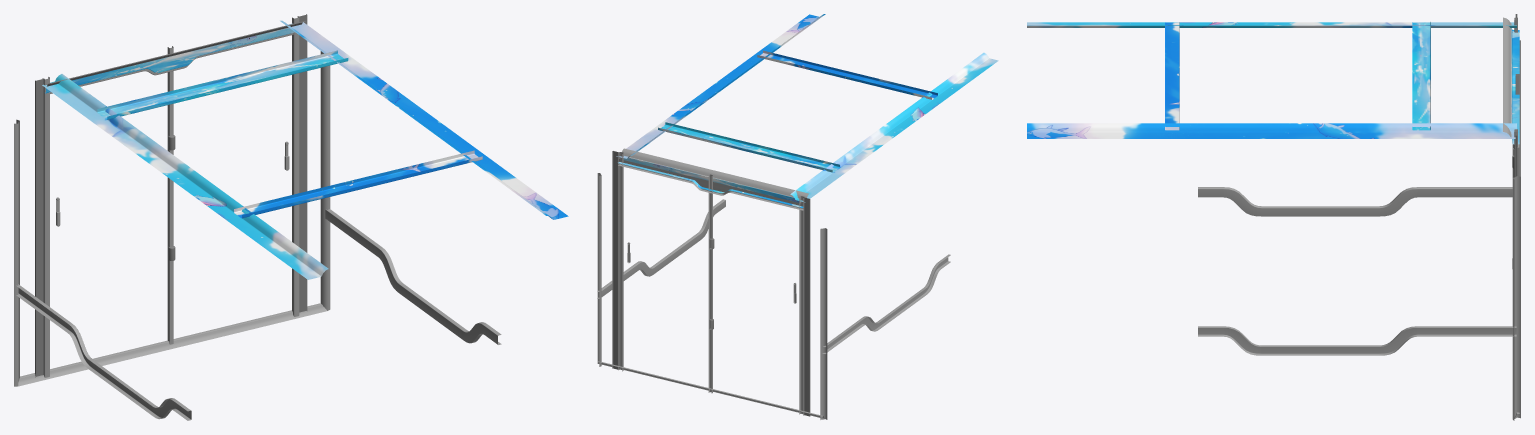
File: g_subway_angle_001_mod.fbx
The picture shows the model from 3 angles, left to right: view 1: azimuth 30°, elevation 25°; view 2: azimuth 150°, elevation 25°; view 3: azimuth 270°, elevation 25°; orthographic projection. The views are drawn at different scales.
Parts seen in each view (by area): view 1: g_subway_angle_001_mod; view 2: g_subway_angle_001_mod; view 3: g_subway_angle_001_mod.
Boxes of the visible parts, left/top/right/bottom form: g_subway_angle_001_mod: left=14, top=14, right=568, bottom=420; g_subway_angle_001_mod: left=597, top=14, right=998, bottom=419; g_subway_angle_001_mod: left=1027, top=14, right=1520, bottom=420.
Bounding box in the file's own units: 237 × 348 × 216.
